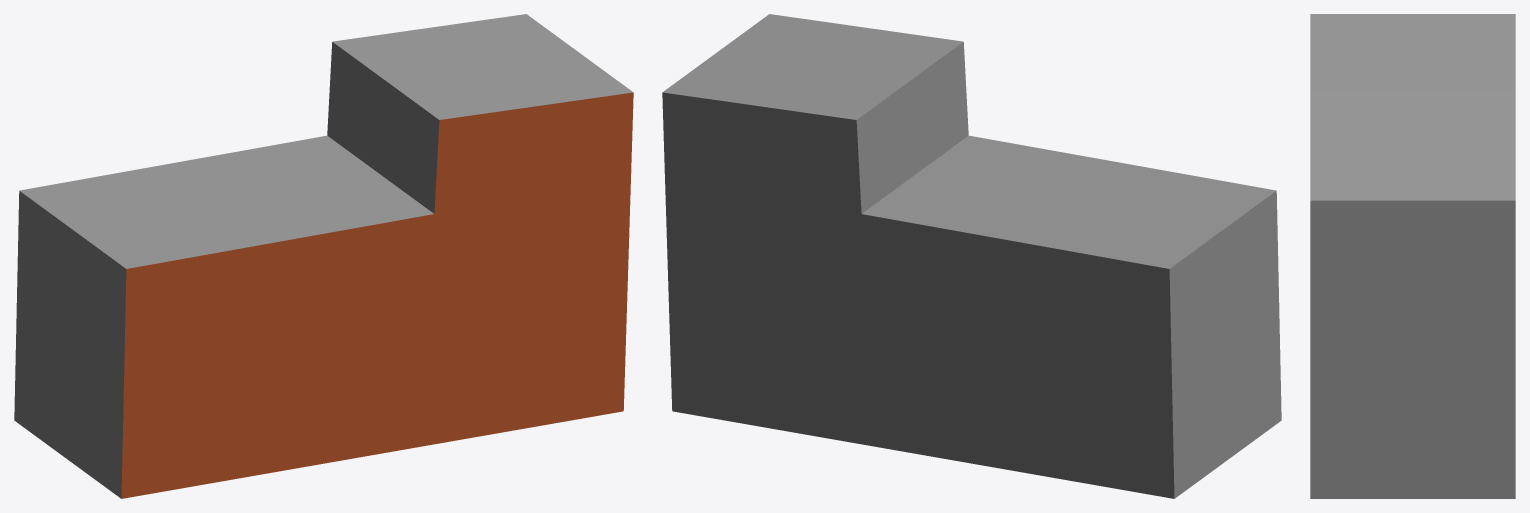
File: construction_6472_assumed_A_Casa_h6m.obj
The picture shows the model from 3 angles, left to right: view 1: azimuth 30°, elevation 25°; view 2: azimuth 150°, elevation 25°; view 3: azimuth 270°, elevation 25°; orthographic projection. The views are drawn at different scales.
Visible parts, largest first — view 1: construction_6472_assumed_A_Casa; view 2: construction_6472_assumed_A_Casa; view 3: construction_6472_assumed_A_Casa.
Boxes of the visible parts, <box> form: construction_6472_assumed_A_Casa: <box>14,14,633,498</box>; construction_6472_assumed_A_Casa: <box>662,14,1281,498</box>; construction_6472_assumed_A_Casa: <box>1310,14,1515,498</box>.
Size of the model in its own units: 16.55 by 10.39 by 6.
